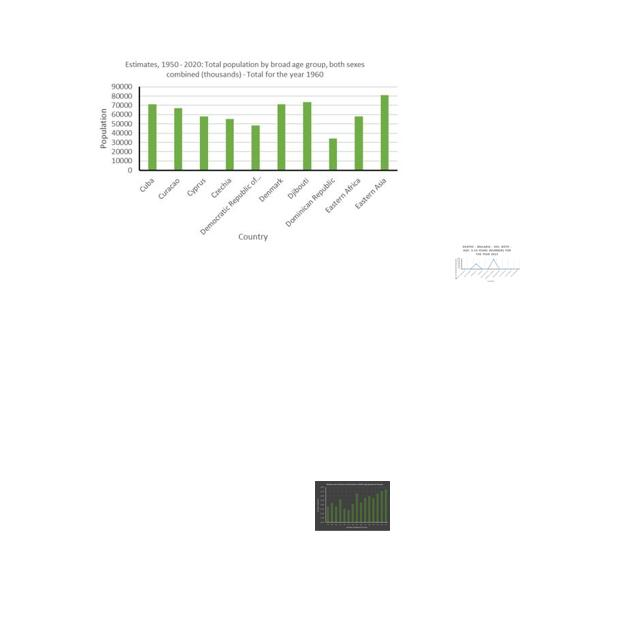Graph: (88, 57, 404, 243), (315, 481, 390, 531), (453, 244, 521, 283)
